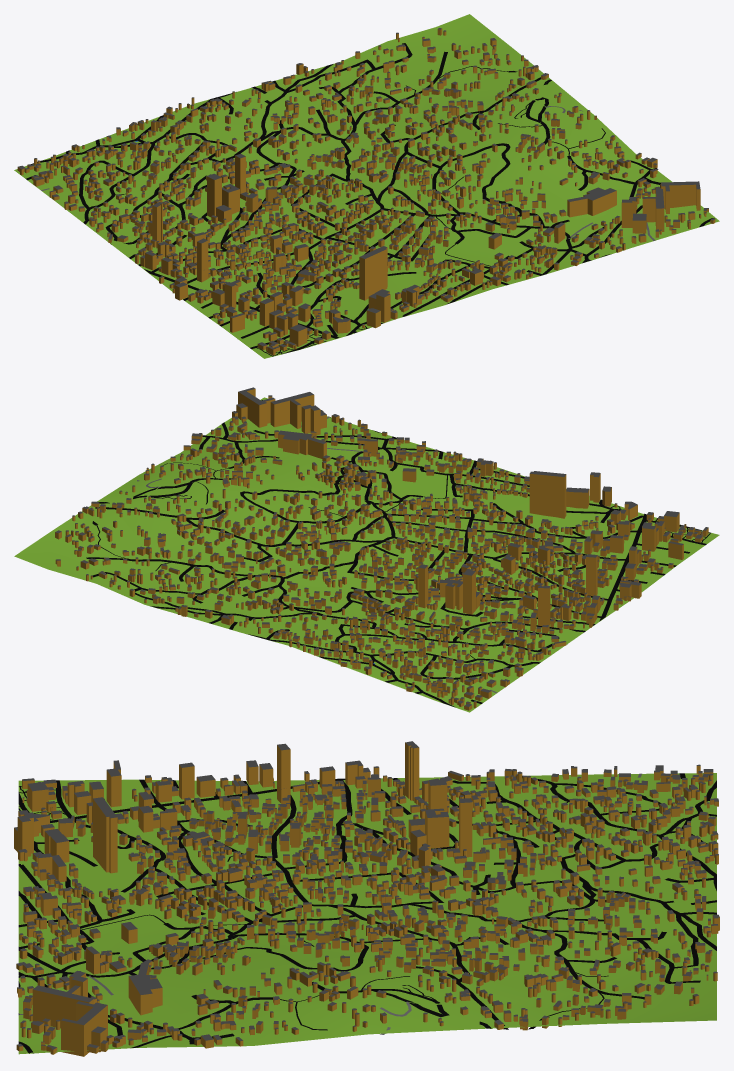
The model's file is tile_07_06.glb.
3 renders of one model, top to bottom at view 1: azimuth 30°, elevation 25°; view 2: azimuth 150°, elevation 25°; view 3: azimuth 270°, elevation 25°, orthographic. The views are drawn at different scales.
Visible parts, largest first — view 1: Terrain_07_06, Ub_small.osm_buildings_07_06, Ub_small.osm_roads_residential_07_06, Ub_small.osm_paths_footway_07_06; view 2: Ub_small.osm_buildings_07_06, Terrain_07_06, Ub_small.osm_roads_residential_07_06; view 3: Ub_small.osm_buildings_07_06, Terrain_07_06, Ub_small.osm_roads_residential_07_06, Ub_small.osm_paths_footway_07_06.
Part boxes in pixels (<box>): Terrain_07_06: <box>14,14,719,358</box>; Ub_small.osm_buildings_07_06: <box>17,28,715,355</box>; Ub_small.osm_roads_residential_07_06: <box>26,43,714,353</box>; Ub_small.osm_paths_footway_07_06: <box>114,66,605,356</box>; Ub_small.osm_buildings_07_06: <box>55,387,708,710</box>; Terrain_07_06: <box>14,397,719,712</box>; Ub_small.osm_roads_residential_07_06: <box>86,400,706,707</box>; Ub_small.osm_buildings_07_06: <box>14,741,719,1056</box>; Terrain_07_06: <box>18,773,716,1054</box>; Ub_small.osm_roads_residential_07_06: <box>18,773,716,1053</box>; Ub_small.osm_paths_footway_07_06: <box>18,783,608,1030</box>.
Bounding box in the file's own units: 997 × 110 × 940.
